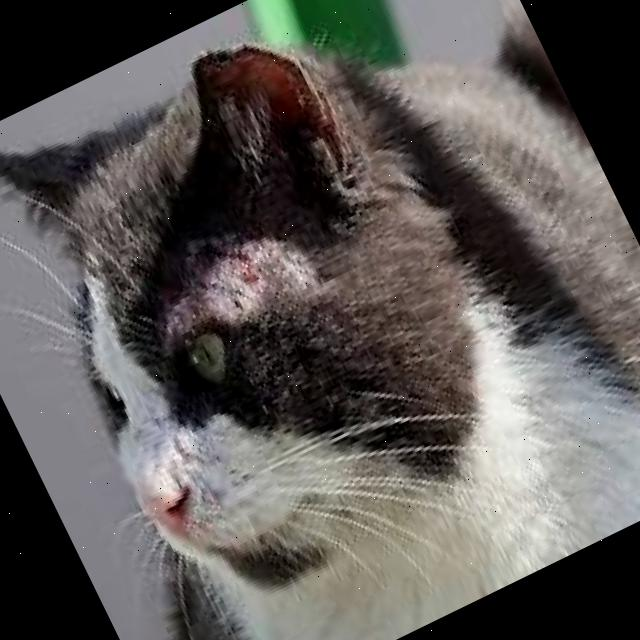cat-ringworm: (174, 230, 293, 334)
